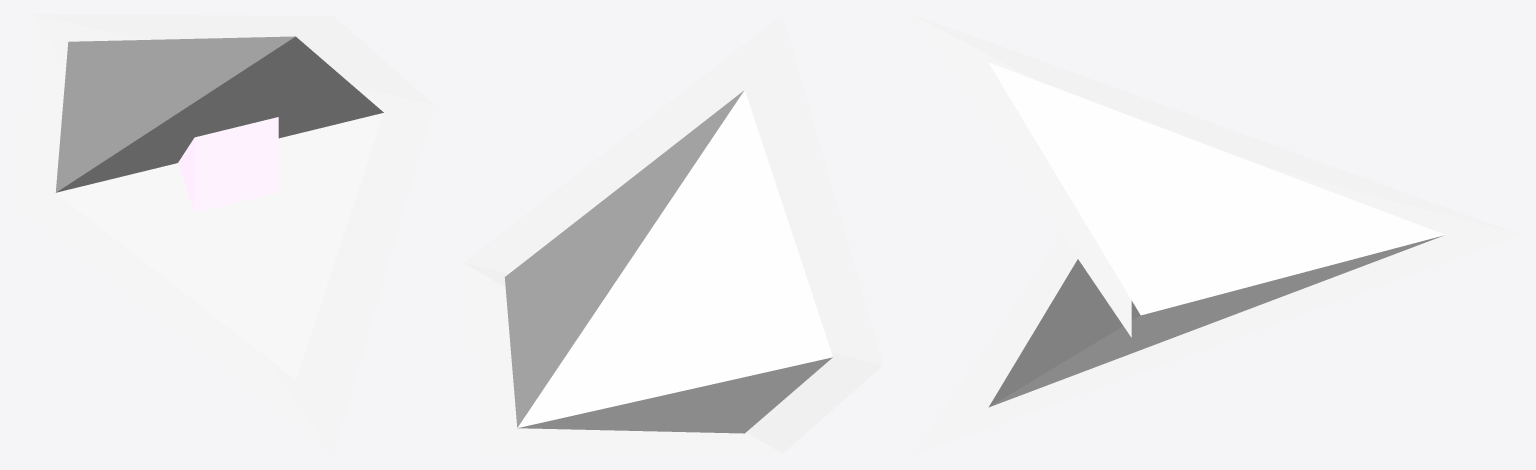
File: bullet.glb
3 renders of one model, left to right at view 1: azimuth 30°, elevation 25°; view 2: azimuth 150°, elevation 25°; view 3: azimuth 270°, elevation 25°, orthographic.
Parts seen in each view (by area): view 1: obj1, obj2, obj3; view 2: obj1, obj2; view 3: obj1, obj2.
Boxes of the visible parts, box(x1,y1,x2,y2) form: obj1: box(55, 36, 383, 379); obj2: box(14, 14, 434, 455); obj3: box(178, 117, 278, 212); obj1: box(504, 90, 832, 433); obj2: box(463, 14, 883, 455); obj1: box(988, 62, 1444, 407); obj2: box(912, 14, 1520, 455).
Bounding box in the file's own units: 0.2 × 0.2 × 0.25.
